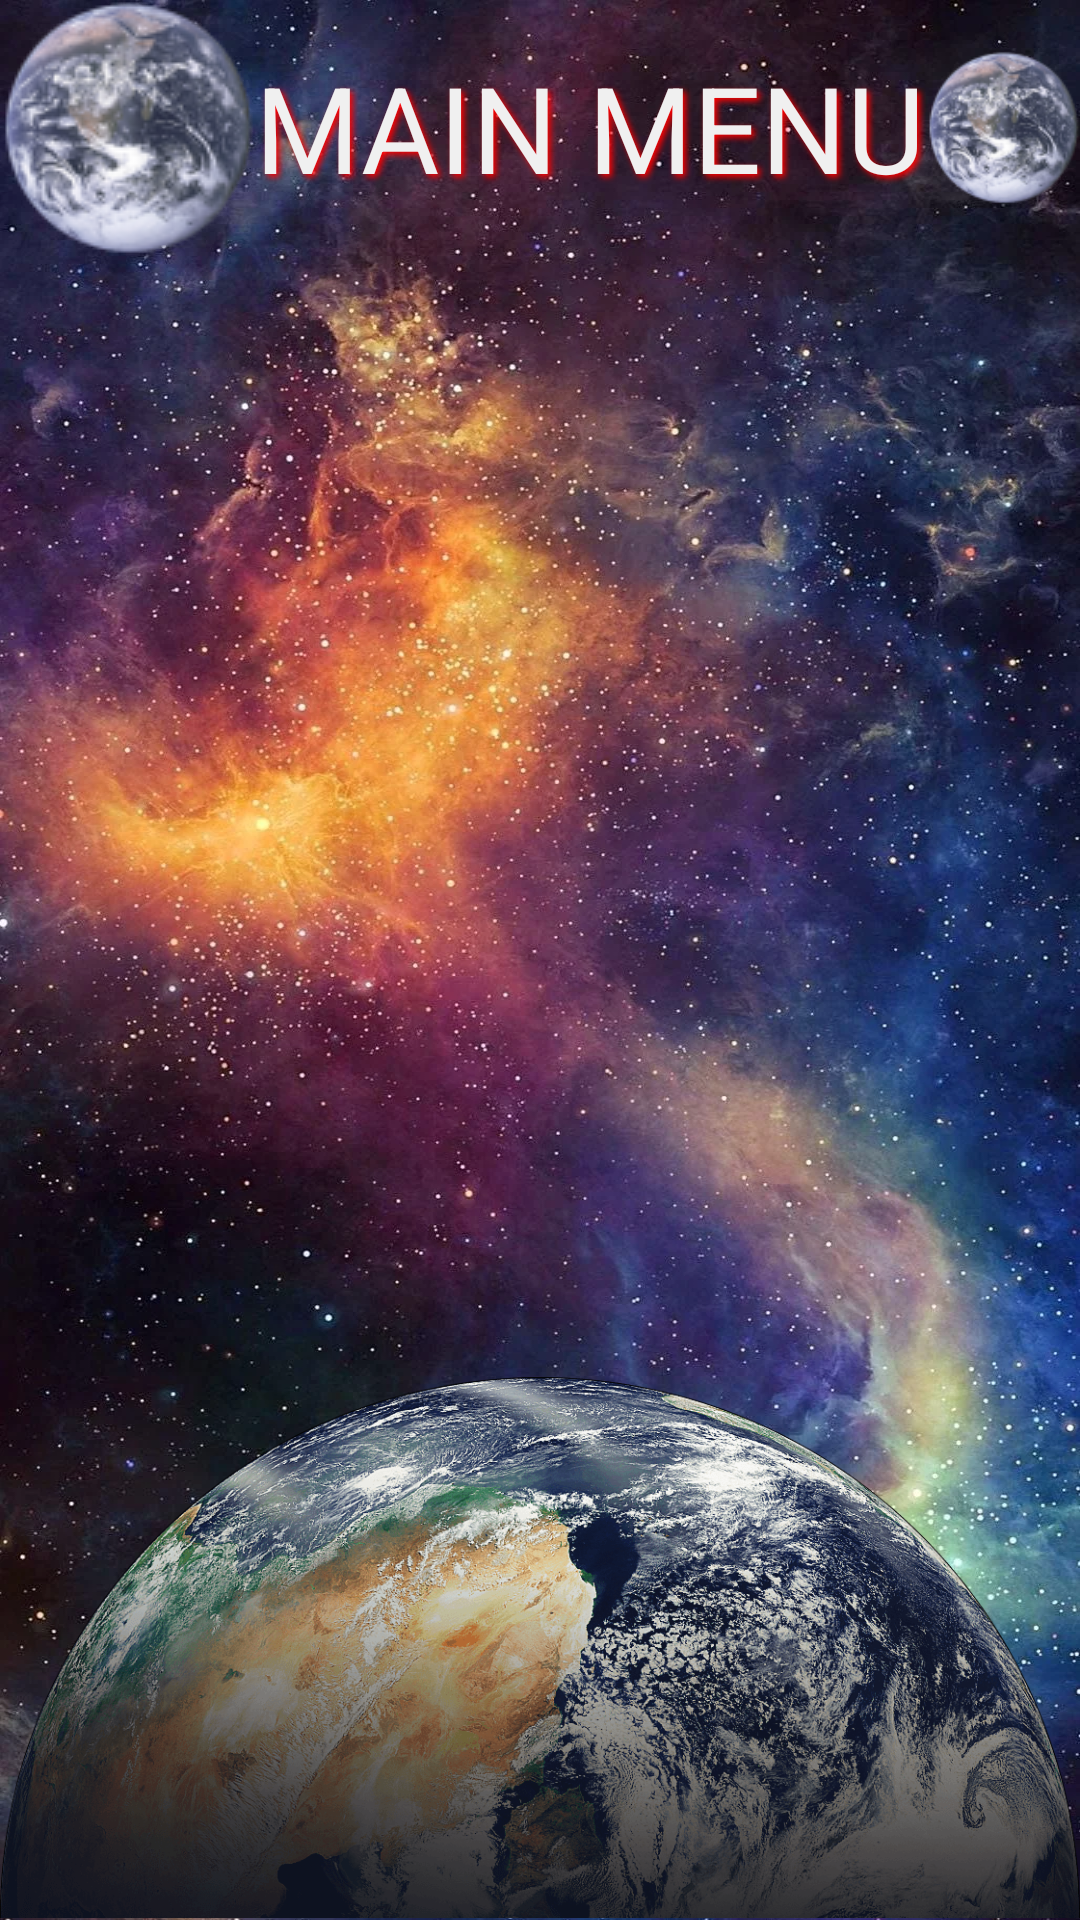

Icon click points for this 1080x1920 phone screenshot, format [x,y]:
mini earth: [127,127], [1003,127]
